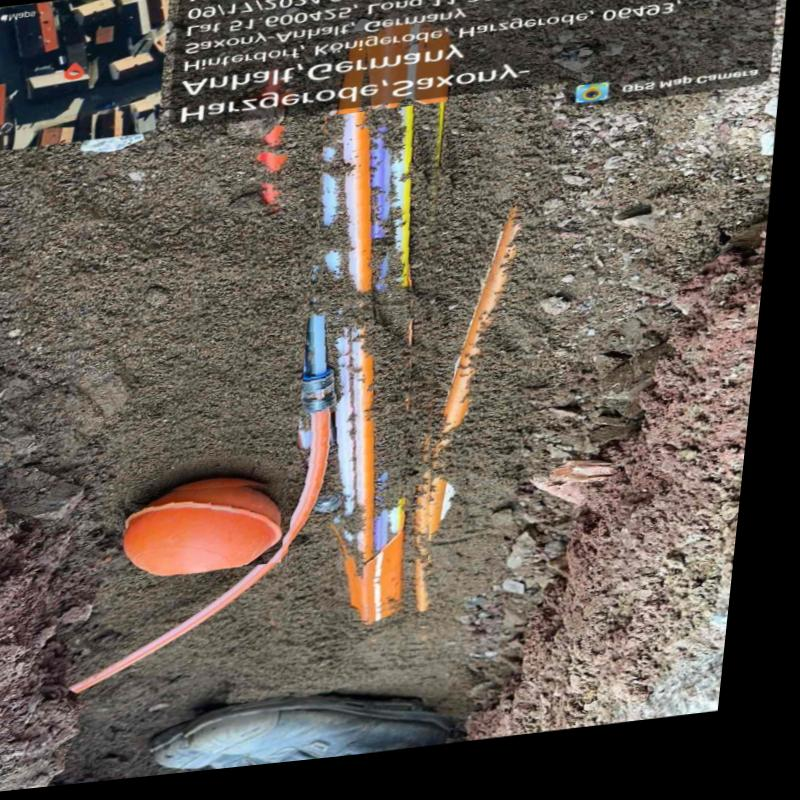Kugelmarker: (134, 492, 295, 580)
Orang-Speednetrohrchen: (306, 113, 442, 621)
